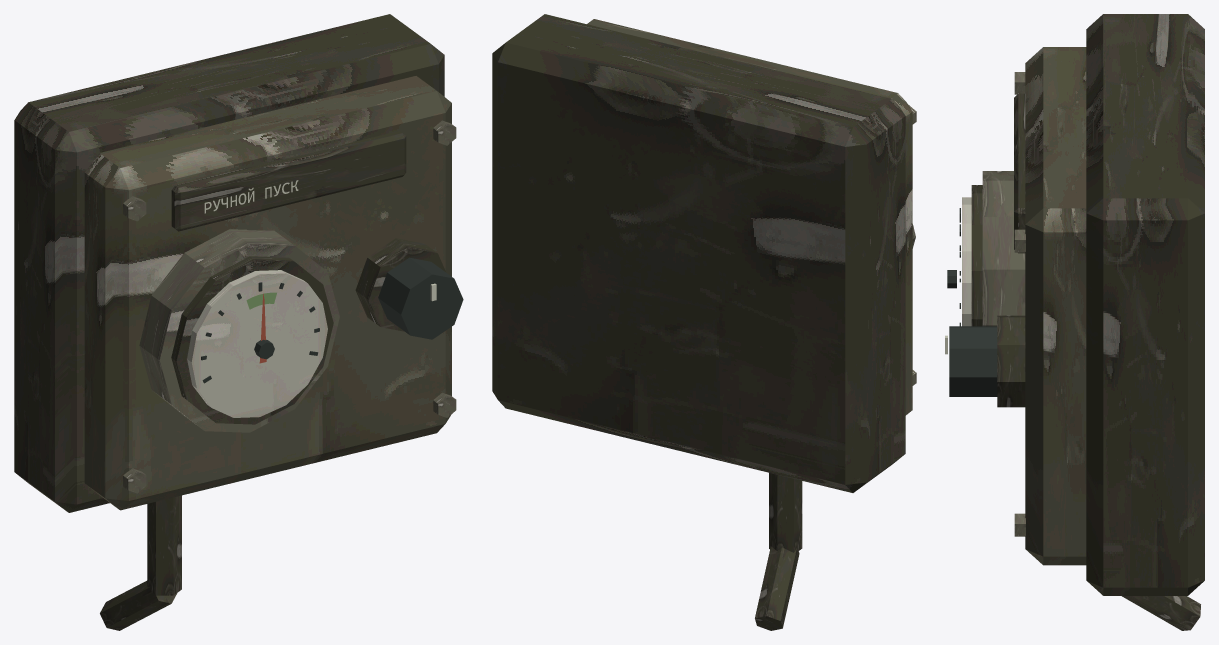
Rendered from reactor_starter.glb.
The picture shows the model from 3 angles, left to right: view 1: azimuth 30°, elevation 25°; view 2: azimuth 150°, elevation 25°; view 3: azimuth 270°, elevation 25°; orthographic projection. The views are drawn at different scales.
Visible parts, largest first — view 1: StarterHousing; view 2: StarterHousing; view 3: StarterHousing.
Boxes of the visible parts, box(x1,y1,x2,y2) form: StarterHousing: box(14, 14, 463, 630); StarterHousing: box(492, 14, 916, 630); StarterHousing: box(945, 14, 1204, 630).
Size of the model in its own units: 0.337 by 0.4532 by 0.1865.
8 materials, 4 textured.
